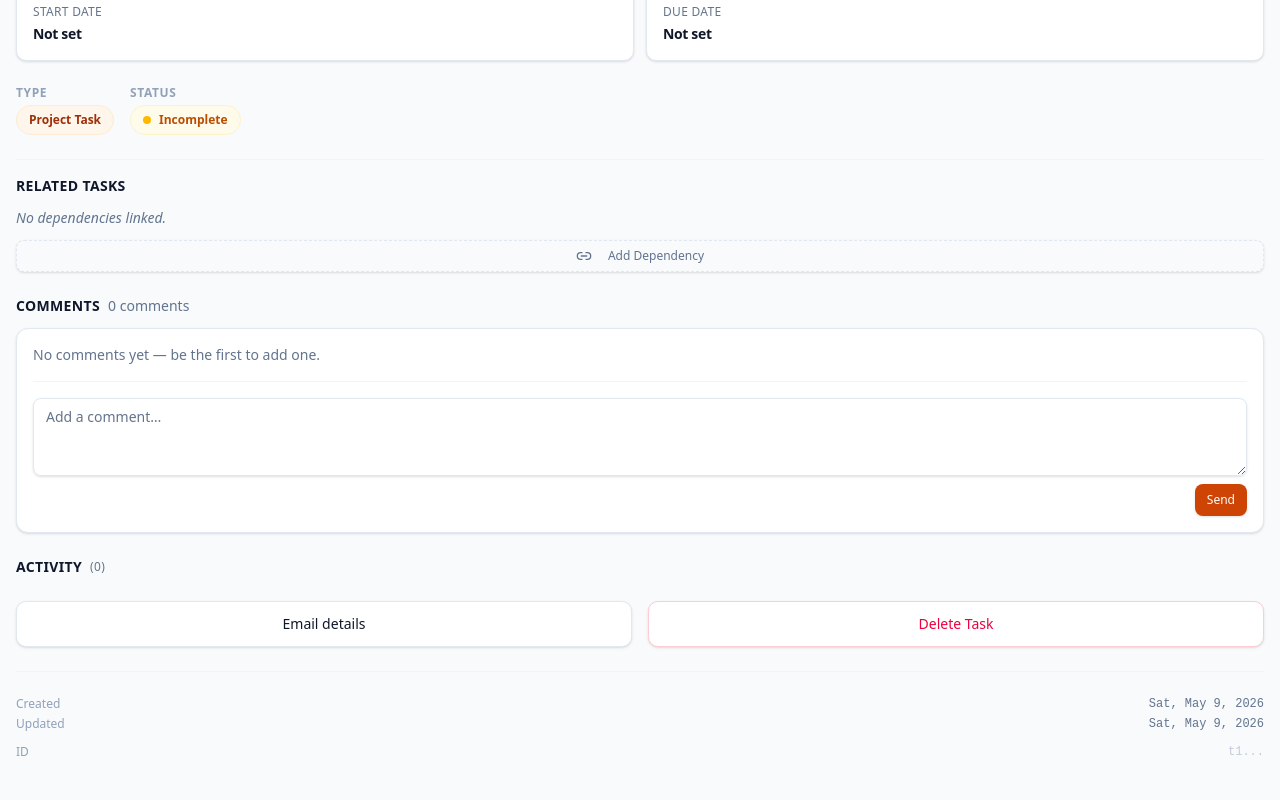
TaskDetailsView — template-origin delete guard › opens the guard dialog for an editor trying to delete a template-origin task
(page scrolled)
What coordinates should you click on to do the following:
click the button with test id "delete-task-btn"
I would click on:
 (956, 624)
Its box is x1=648 y1=601 x2=1264 y2=647.
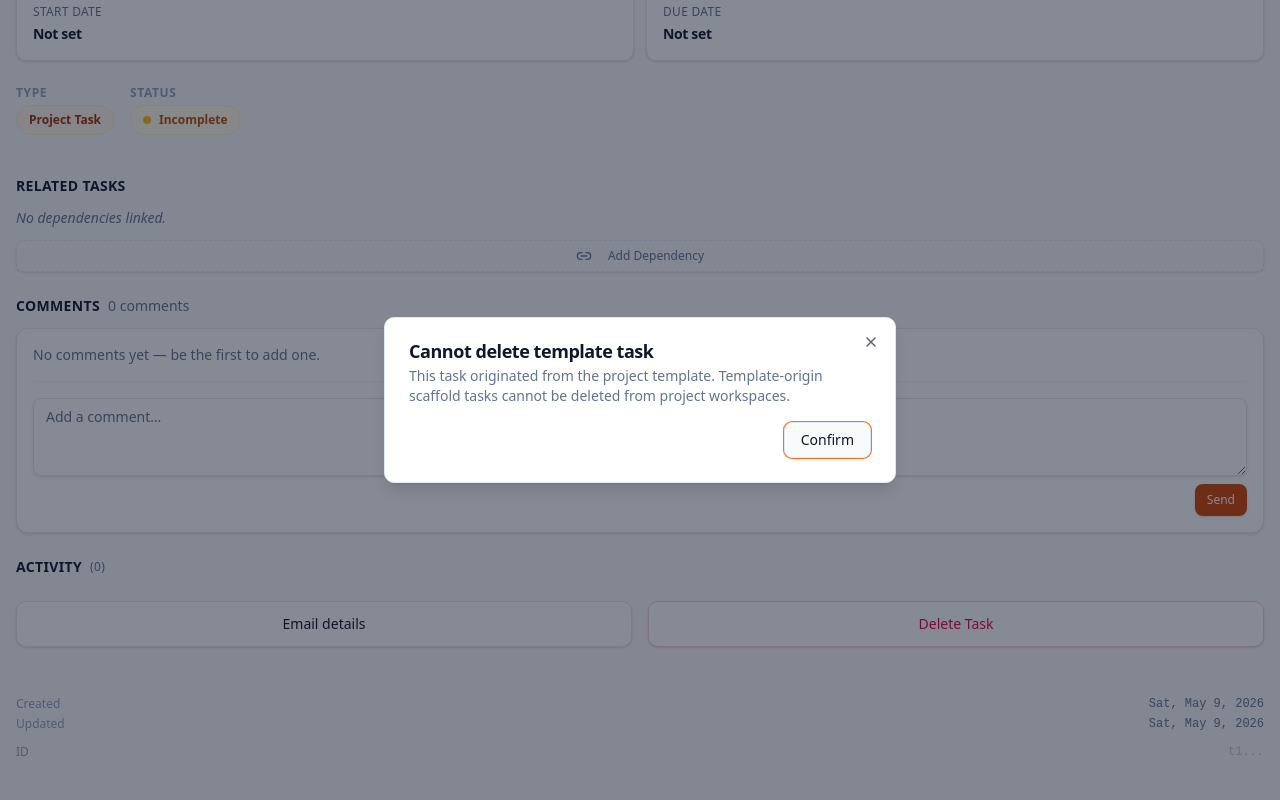
Expected: the dialog with test id "template-origin-delete-guard" is shown, x1=384 y1=317 x2=896 y2=483
